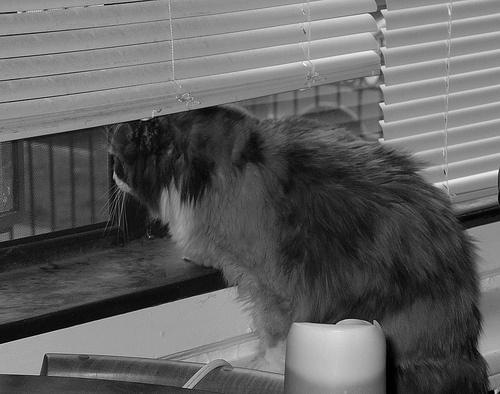cat: (114, 100, 487, 394)
